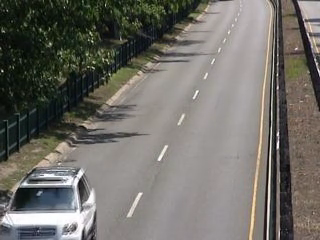car: (2, 163, 102, 239)
